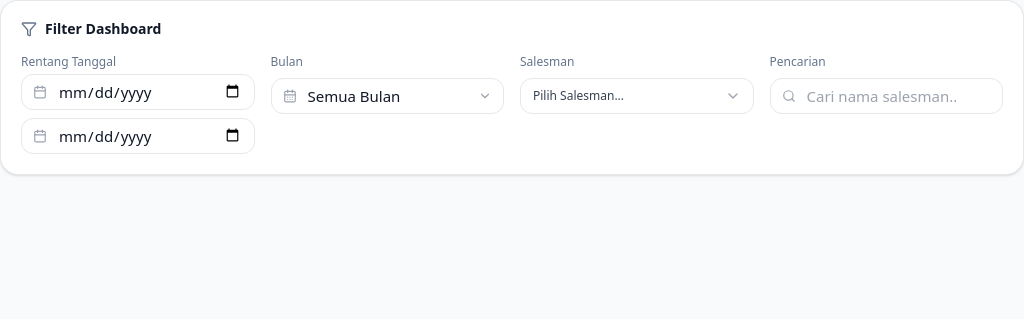
Test: FilterBar › Requirement 6.3 — salesman dropdown search / filtering › filters the options list based on debounced search input
# Open dropdown with real click (fireEvent doesn't need timers)
Click the button "Pilih Salesman..." at (637, 96), box left=520, top=78, right=754, bottom=114
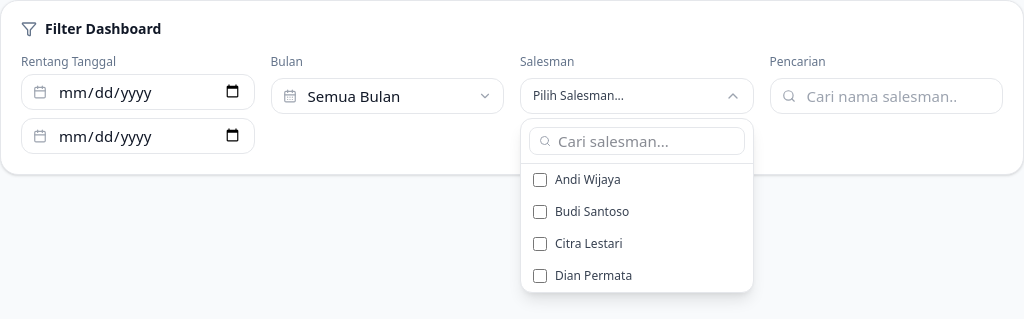
Type "andi" into the field with placeholder "Cari salesman..." at (637, 141), box left=529, top=127, right=744, bottom=155
Wait 400 ms
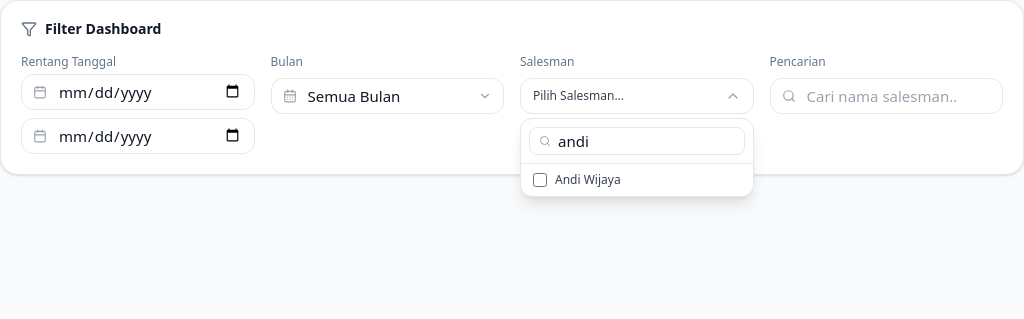
Result: the option "Andi Wijaya" is shown at left=533, top=171, right=621, bottom=188
Result: the option "Budi Santoso" is gone
